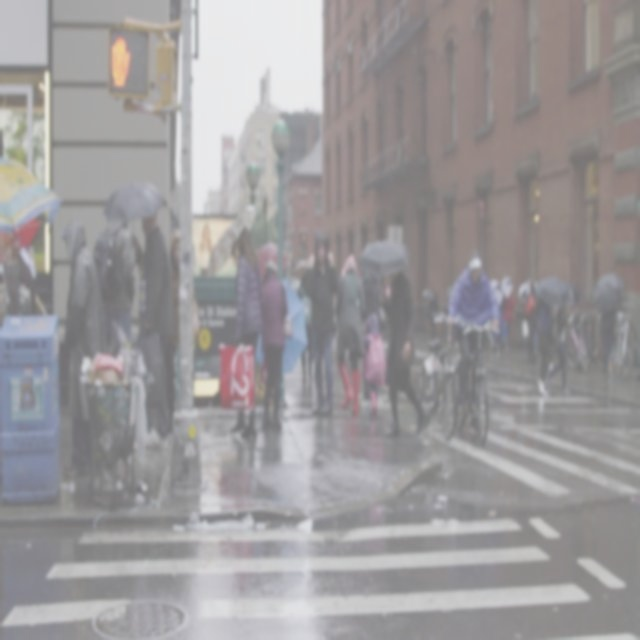pessoa: (57, 210, 111, 482), (444, 244, 501, 423), (378, 253, 428, 440), (139, 194, 176, 434), (296, 228, 342, 418), (93, 185, 145, 343), (228, 224, 264, 448), (230, 225, 262, 435), (329, 248, 366, 420), (259, 260, 293, 436), (8, 229, 48, 315), (486, 272, 526, 355), (552, 284, 576, 400), (363, 313, 386, 420), (596, 281, 620, 380), (298, 258, 314, 386), (534, 286, 552, 398), (522, 278, 538, 366), (358, 260, 379, 316), (170, 236, 180, 352), (424, 282, 444, 328)
